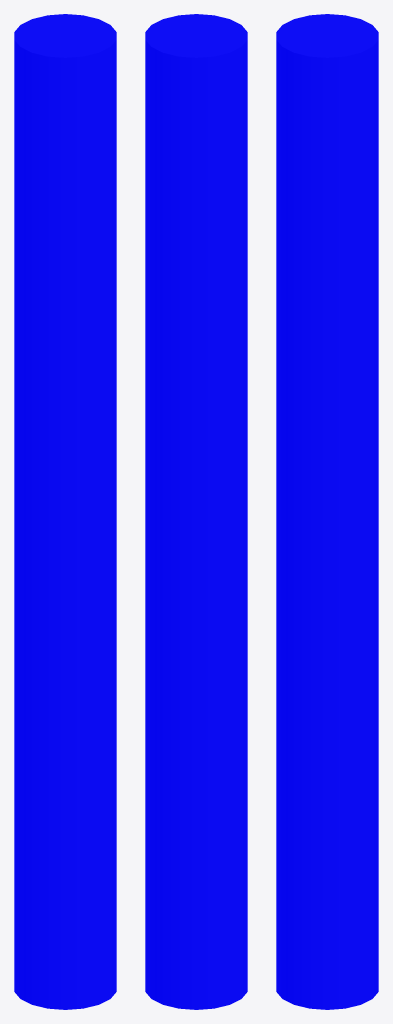
Rendered from blue-1x0.05x0.05-positiveZAxis-cylinder.dae.
3 renders of one model, left to right at view 1: azimuth 90°, elevation 25°; view 2: azimuth 150°, elevation 25°; view 3: azimuth 270°, elevation 25°, orthographic.
Parts seen in each view (by area): view 1: Cylinder001; view 2: Cylinder001; view 3: Cylinder001.
Part boxes in pixels (bbox=[...]): Cylinder001: bbox=[14, 14, 116, 1009]; Cylinder001: bbox=[145, 14, 247, 1009]; Cylinder001: bbox=[276, 14, 378, 1009].
Size of the model in its own units: 0.1 by 0.0985 by 1.01.
